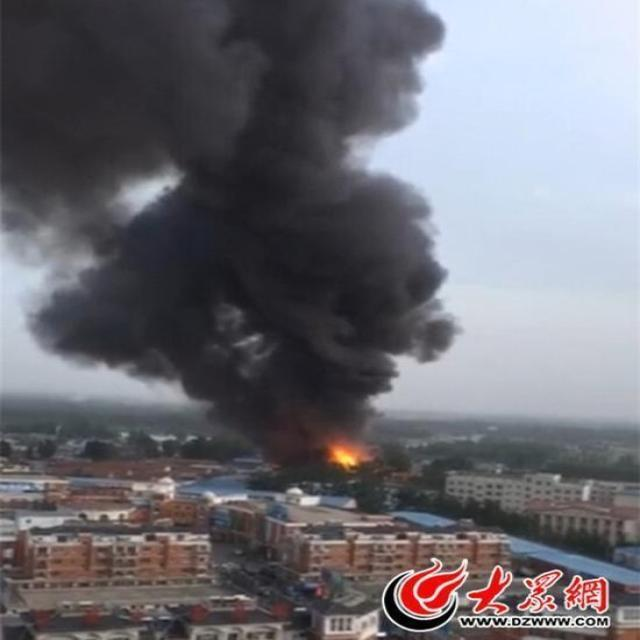Smoke: (0, 0, 467, 473)
